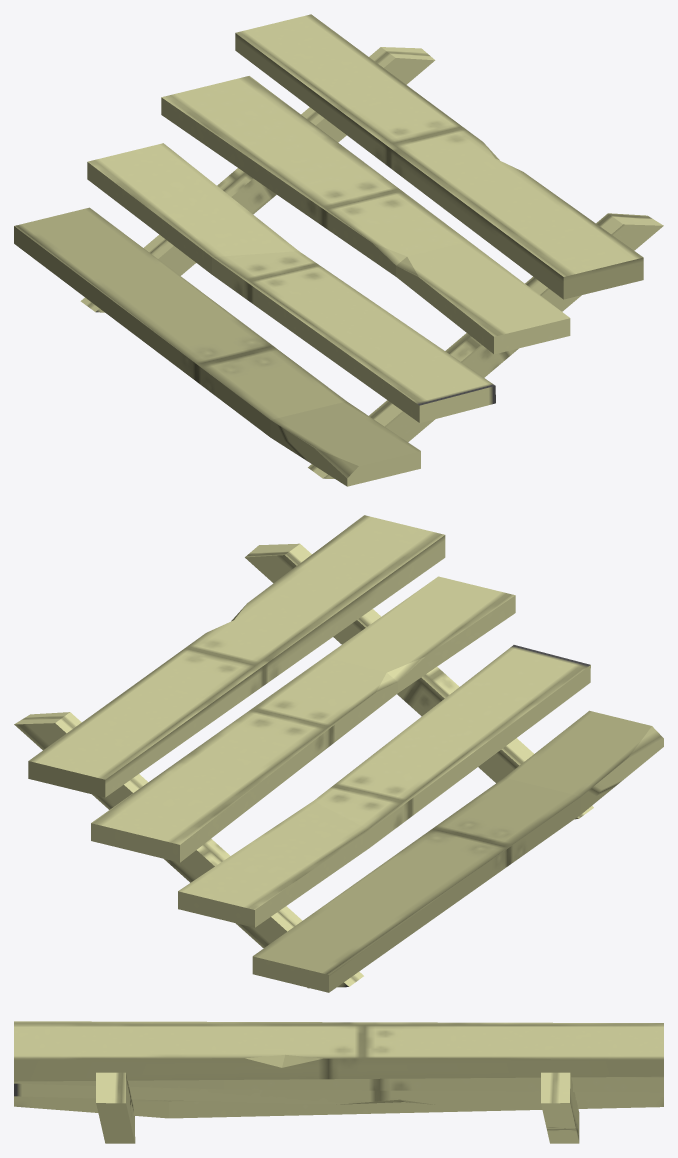
Rendered from Stair_01.fbx.
3 views of the same model, one above another, from view 1: azimuth 30°, elevation 25°; view 2: azimuth 150°, elevation 25°; view 3: azimuth 270°, elevation 25° (orthographic). The views are drawn at different scales.
Parts seen in each view (by area): view 1: SM_Bld_Dock_Stairs_Half_01; view 2: SM_Bld_Dock_Stairs_Half_01; view 3: SM_Bld_Dock_Stairs_Half_01.
Boxes of the visible parts, left/top/right/bottom form: SM_Bld_Dock_Stairs_Half_01: left=14, top=14, right=663, bottom=486; SM_Bld_Dock_Stairs_Half_01: left=14, top=515, right=663, bottom=992; SM_Bld_Dock_Stairs_Half_01: left=14, top=1021, right=663, bottom=1143.
Size of the model in its own units: 152 by 81.03 by 243.
